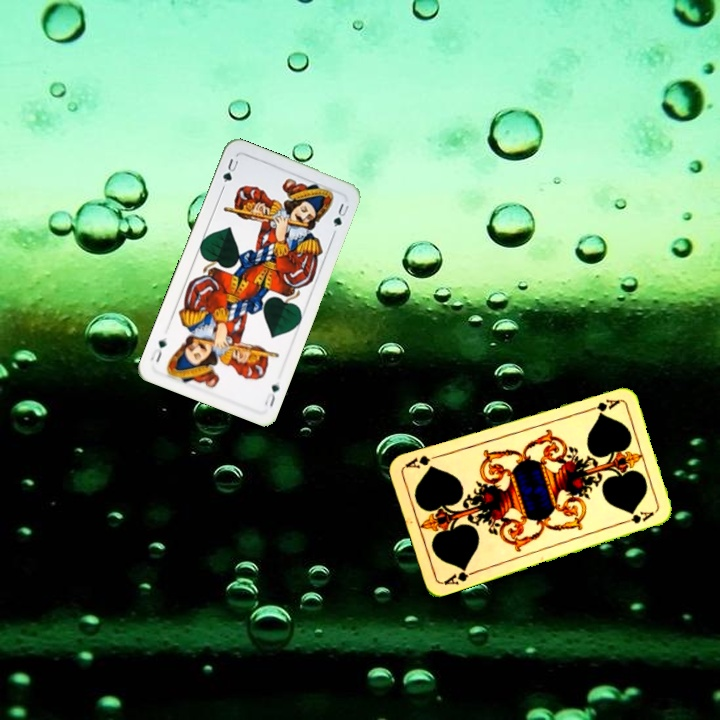GA: (439, 563, 479, 588), (582, 395, 622, 415)
GU: (219, 154, 241, 185), (260, 380, 282, 410)
